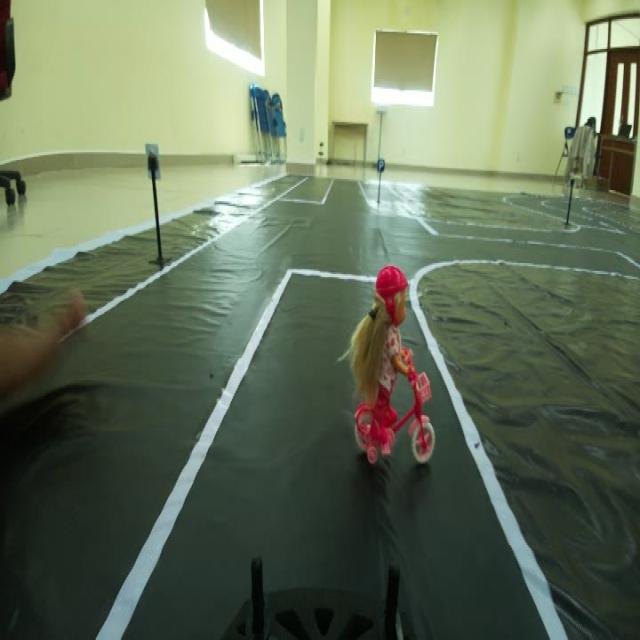pedestrian: (346, 270, 446, 478)
